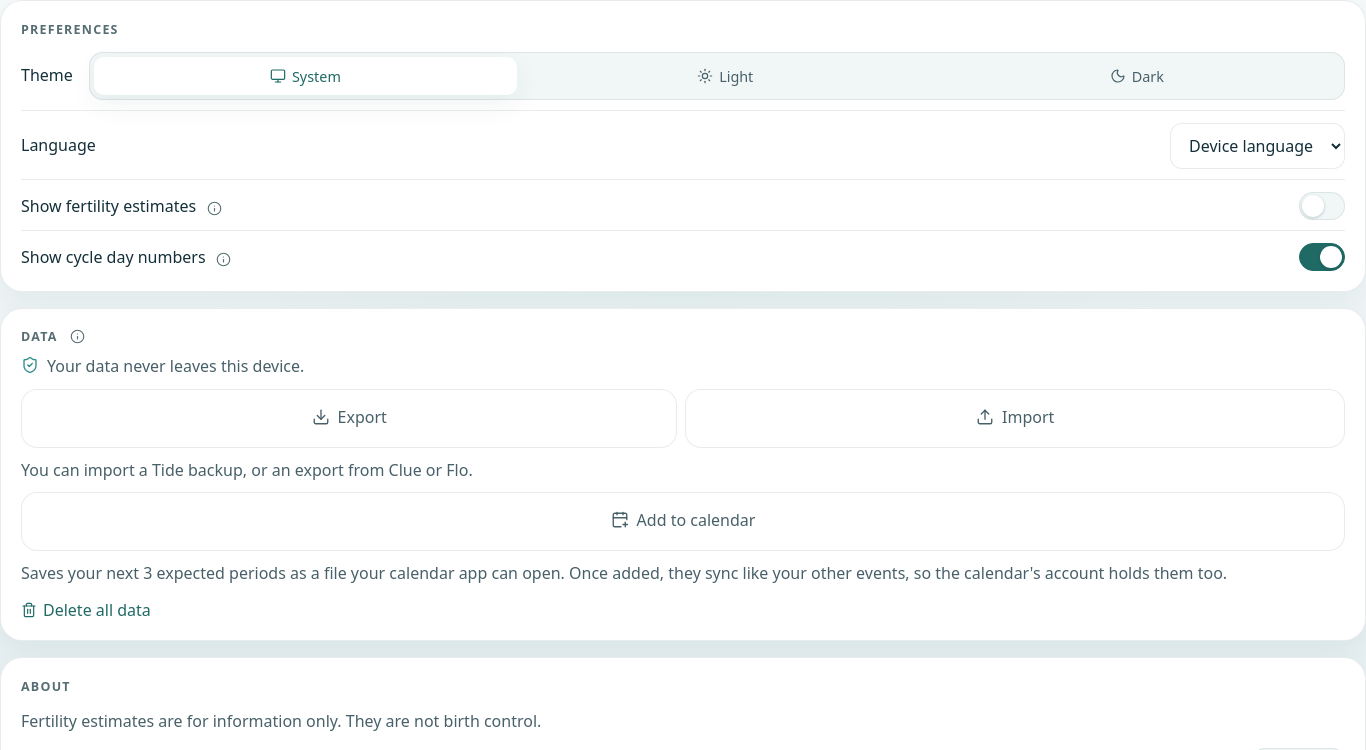
SettingsScreen › saves the next three expected periods as a calendar file
Click the button "Add to calendar" at (683, 522), box [21,492,1345,551]
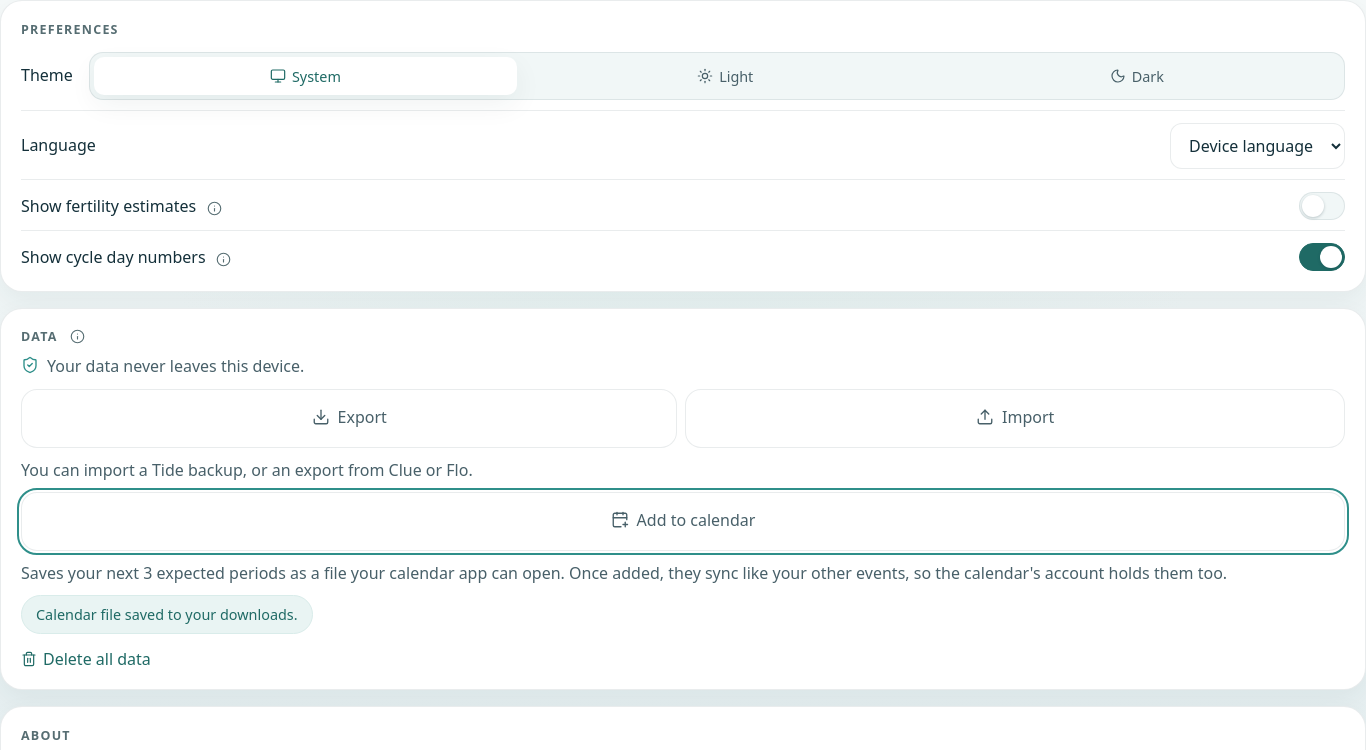
Result: the message shows "Calendar file saved" at [36,605,298,624]
